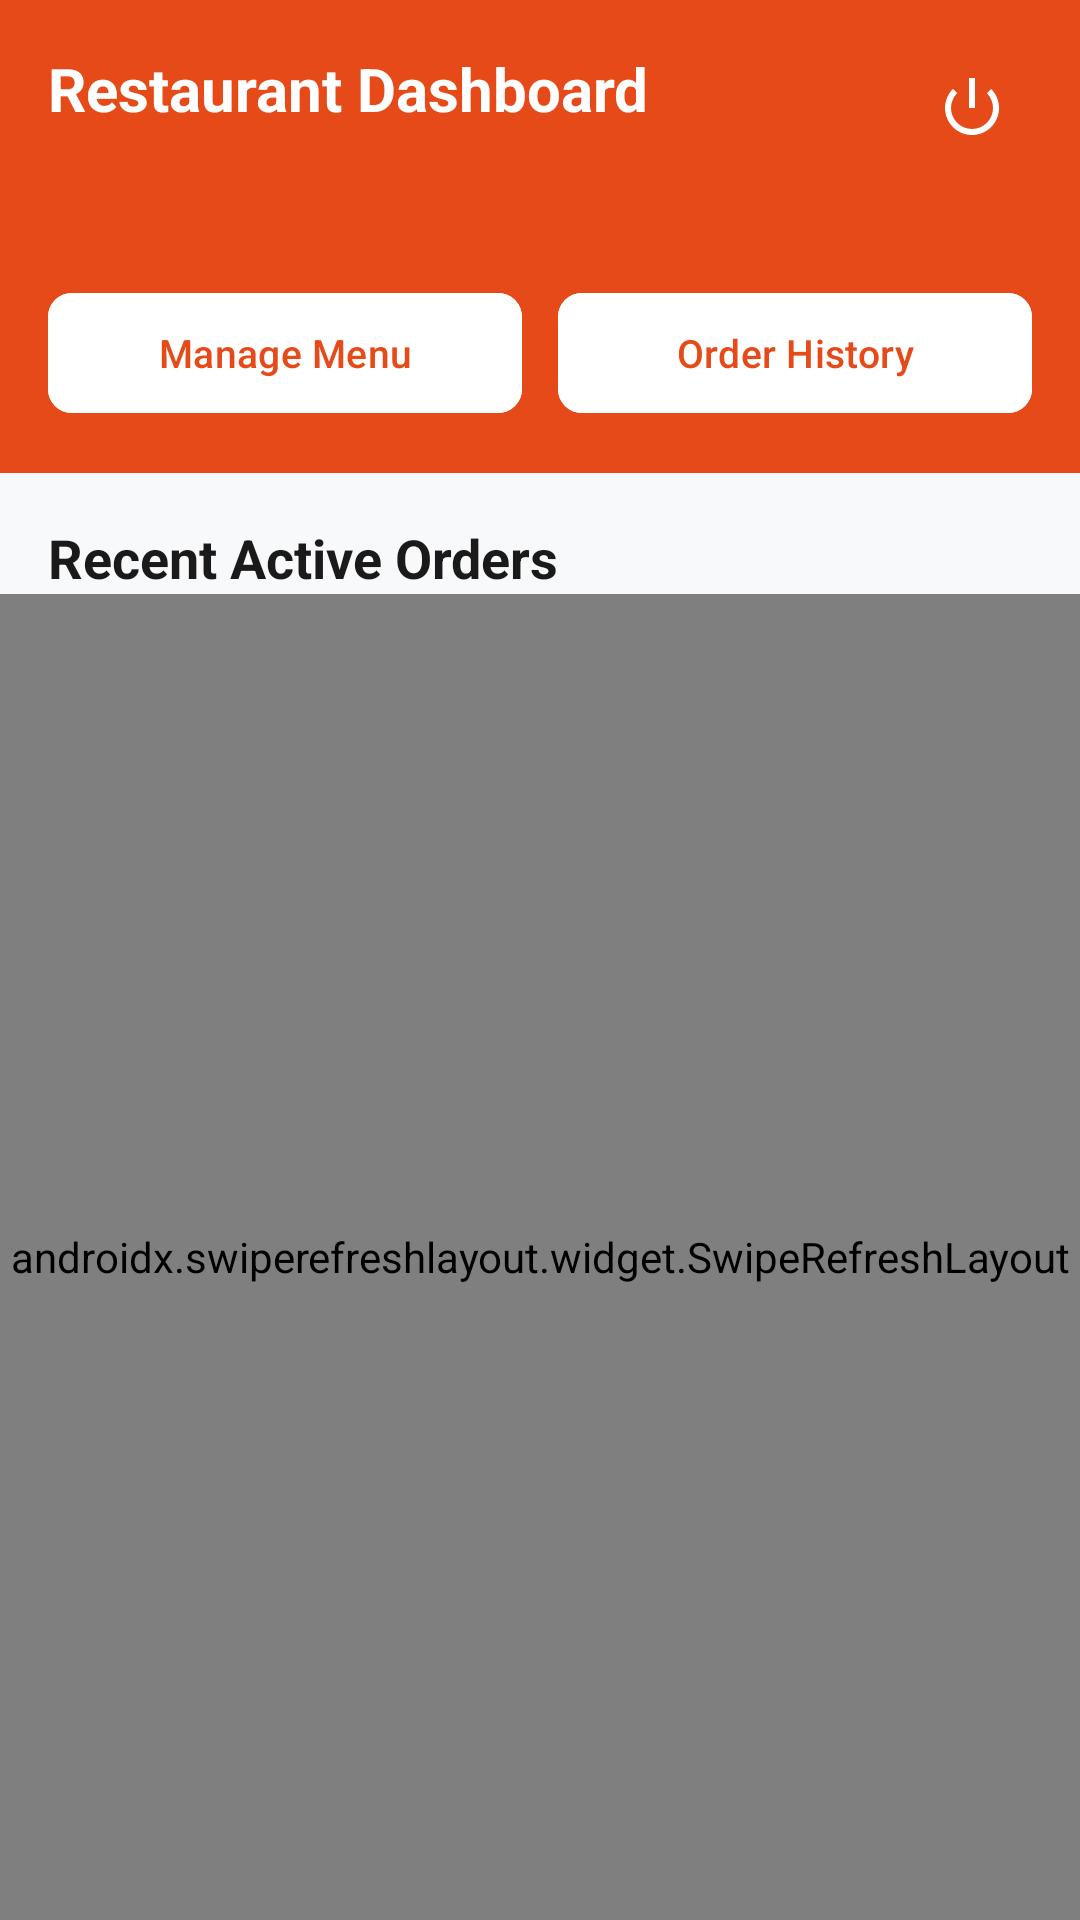

Icons on this 1080*1920 Android screen, each with the point to tap as (x,y):
lock power off: (972,106)
